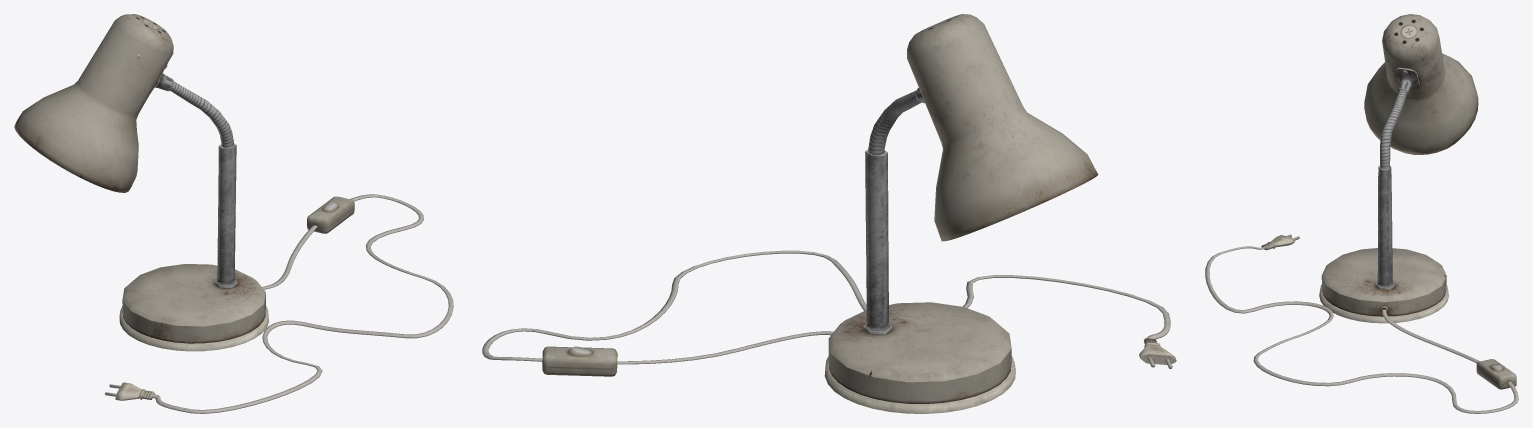
Rendered from old_lamp.glb.
3 renders of one model, left to right at view 1: azimuth 30°, elevation 25°; view 2: azimuth 150°, elevation 25°; view 3: azimuth 270°, elevation 25°, orthographic. The views are drawn at different scales.
Parts seen in each view (by area): view 1: Lamp_low.004, Base_low.004, wire_low.004, Cylinder_low.004, Base1_low.004, Regulator_low.004, Spiral_low.004, Plug_low.004; view 2: Lamp_low.004, Base_low.004, wire_low.004, Cylinder_low.004, Base1_low.004, Regulator_low.004, Spiral_low.004, Plug_low.004; view 3: Lamp_low.004, Base_low.004, wire_low.004, Cylinder_low.004, Base1_low.004, Spiral_low.004, Regulator_low.004, tube1_low.004, Plug_low.004.
Part boxes in pixels (x1,y1,x2,y2): Lamp_low.004: (14,14,173,192); Base_low.004: (122,264,265,343); wire_low.004: (152,194,453,413); Cylinder_low.004: (214,143,237,287); Base1_low.004: (119,306,268,351); Regulator_low.004: (307,196,354,233); Spiral_low.004: (170,82,233,147); Plug_low.004: (105,382,154,400); Lamp_low.004: (907,14,1098,241); Base_low.004: (828,302,1011,403); wire_low.004: (482,250,1170,364); Cylinder_low.004: (863,149,892,334); Base1_low.004: (824,355,1015,413); Regulator_low.004: (542,346,617,376); Spiral_low.004: (868,90,921,154); Plug_low.004: (1139,338,1176,368); Lamp_low.004: (1364,14,1478,154); Base_low.004: (1321,248,1446,316); wire_low.004: (1205,246,1518,413); Cylinder_low.004: (1375,166,1395,289); Base1_low.004: (1319,284,1448,323); Spiral_low.004: (1380,90,1407,168); Regulator_low.004: (1476,359,1516,389); tube1_low.004: (1395,67,1419,94); Plug_low.004: (1261,234,1299,250).
Size of the model in its own units: 347 by 235 by 253.
Materials: 2 (2 with a texture image).
